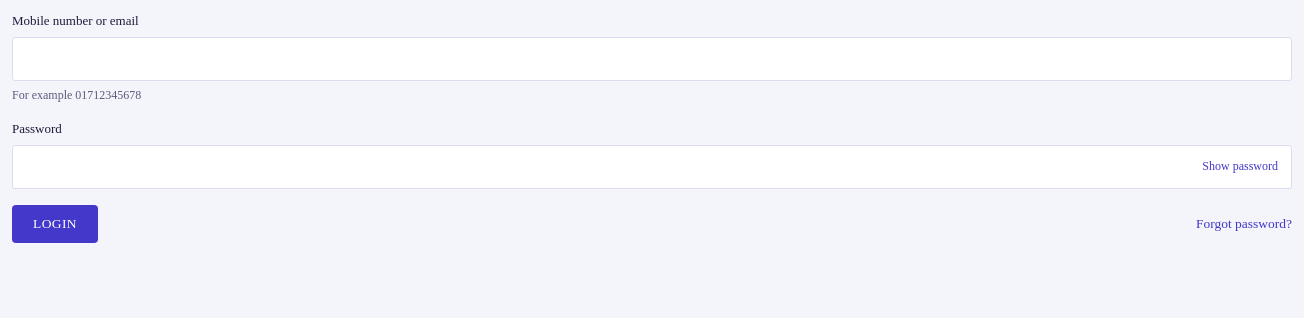
LoginForm › maps API error codes to friendly text
Type "a@b.co" into the field labelled "Mobile number or email".
click(652, 59); type("a@b.co")  # box [12,37,1292,81]
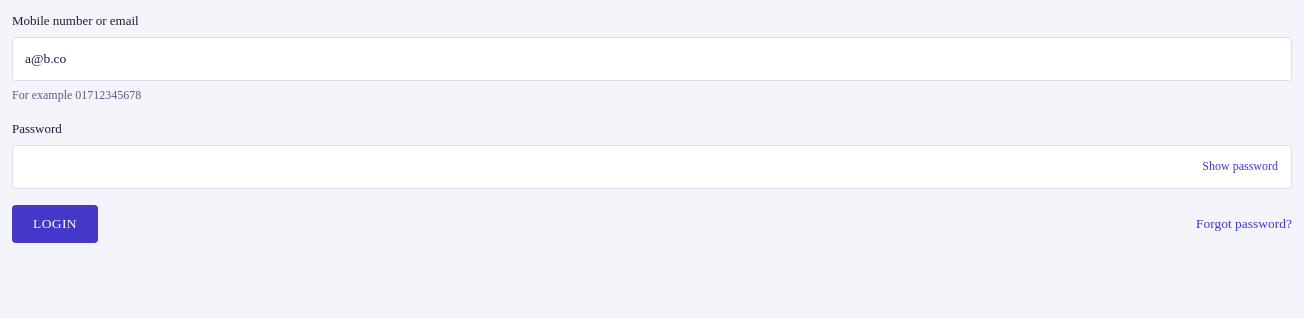
Type "nope" into the password field labelled "Password".
click(652, 167); type("nope")  # box [12,145,1292,189]
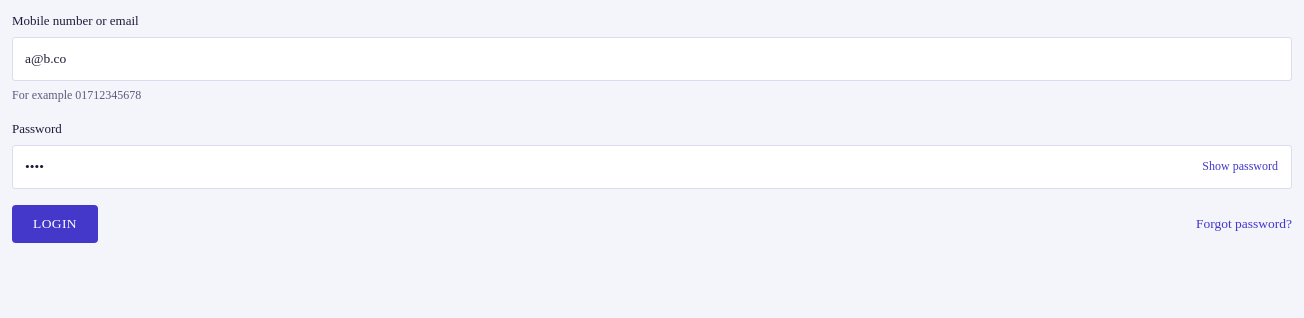
Click the button "Login".
click(55, 224)  # box [12,205,98,243]
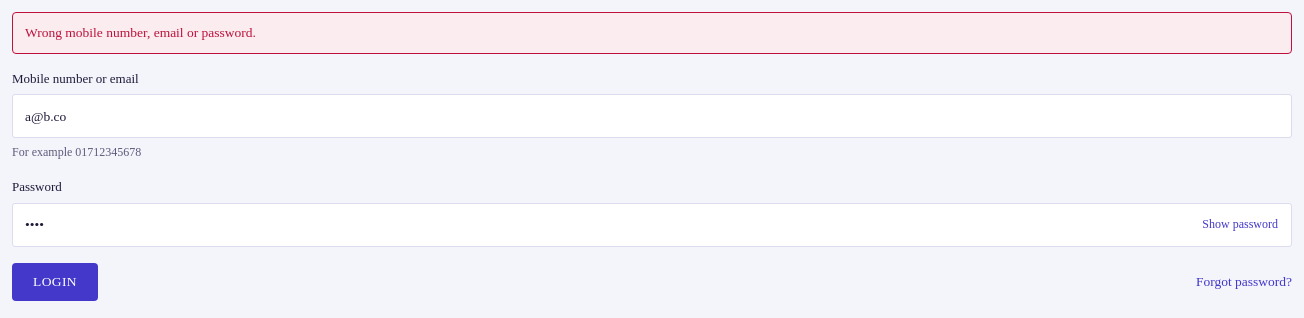
Result: the message reads "Wrong mobile number, email or password." at [25,25,256,40]
